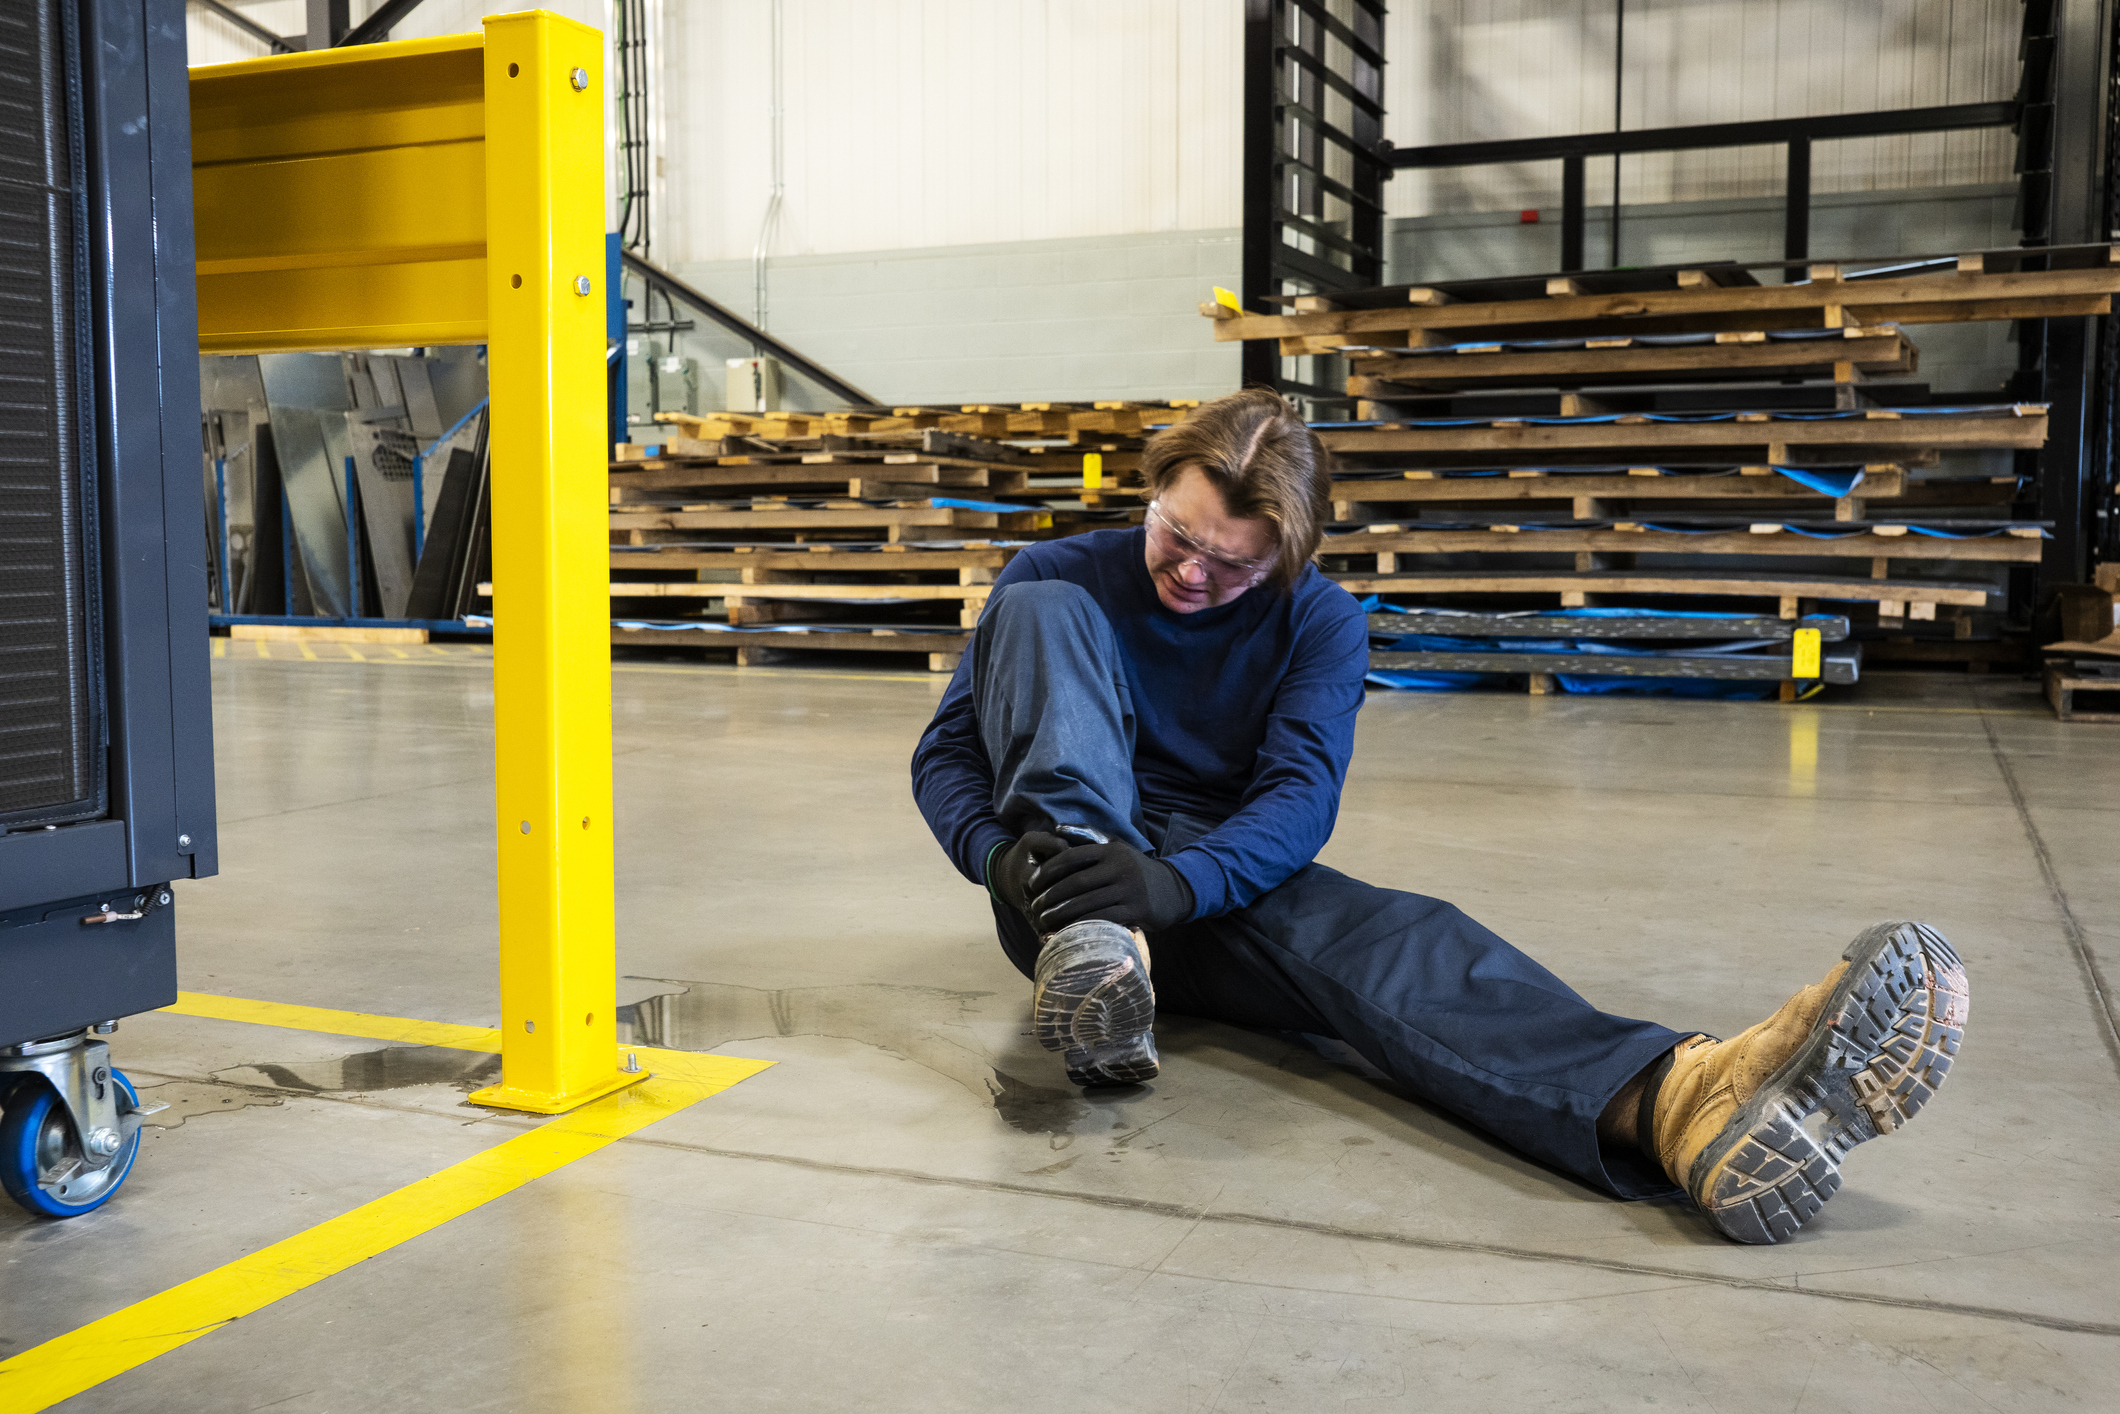fall: (882, 365, 2054, 1267)
